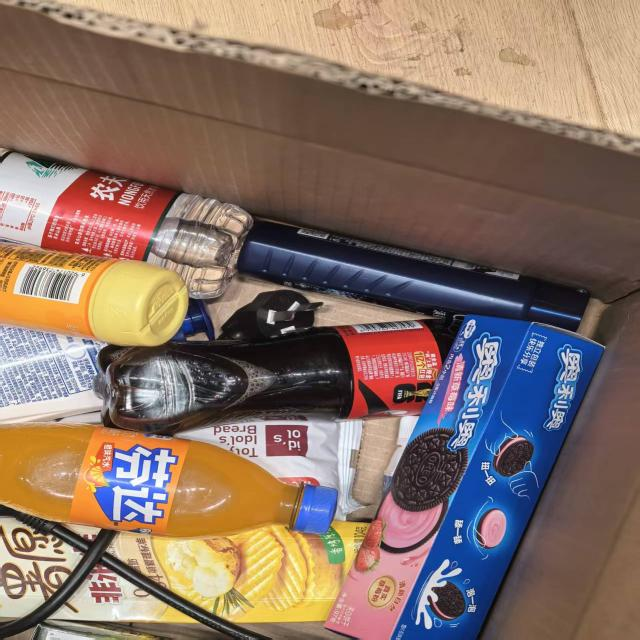orange: (80, 436, 170, 526)
